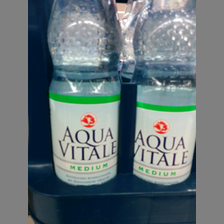water: (46, 1, 124, 187), (123, 1, 196, 186)
